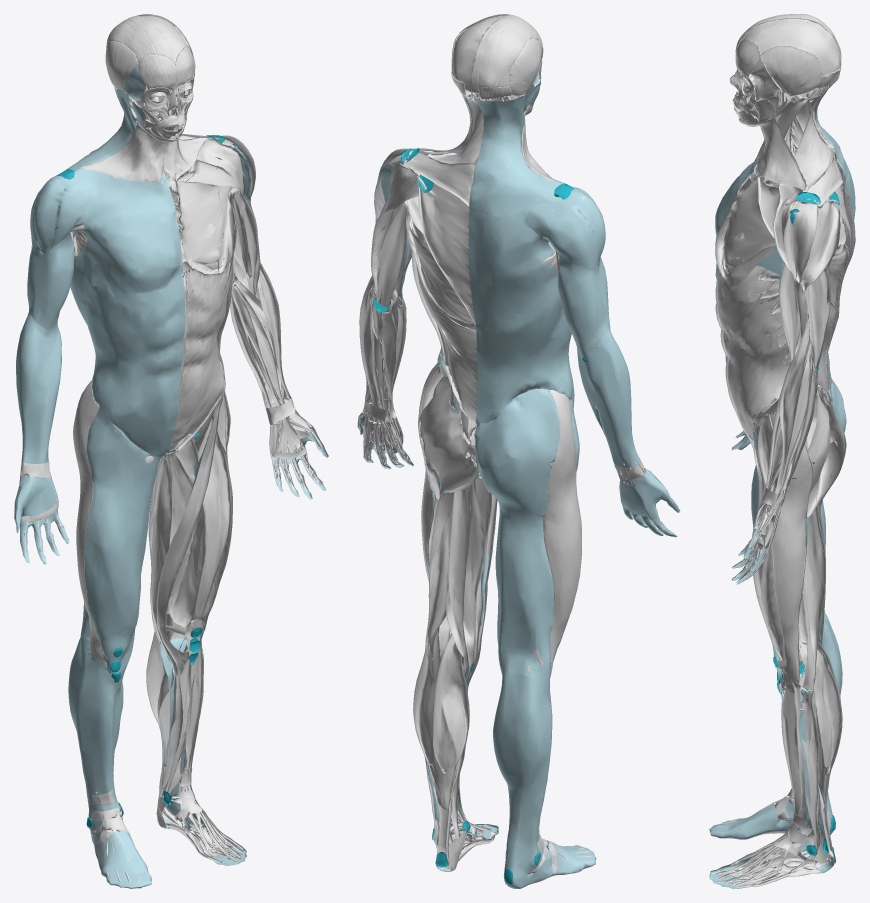
File: body-muscular.glb
The picture shows the model from 3 angles, left to right: view 1: azimuth 30°, elevation 25°; view 2: azimuth 150°, elevation 25°; view 3: azimuth 270°, elevation 25°; orthographic projection. The views are drawn at different scales.
Parts seen in each view (by area): view 1: z00933, z00829, z00765, z01064, z00820, z00717, z01181, z00775, z01117, z01133, z00731, z00893 (+29 smaller); view 2: z00933, z00829, z00765, z01244, z00893, z00952, z00717, z00782, z00775, z00862, z00995, z00731 (+22 smaller); view 3: z00820, z00892, z01181, z00794, z00971, z00862, z00765, z01281, z00940, z01079, z00734, z00704 (+46 smaller).
Part boxes in pixels (x1,y1,x2,y2): z00933: [70, 239, 184, 456]; z00829: [73, 391, 165, 658]; z00765: [68, 637, 151, 888]; z01064: [78, 178, 182, 294]; z00820: [172, 258, 232, 443]; z00717: [16, 315, 61, 463]; z01181: [177, 181, 237, 273]; z00775: [30, 169, 113, 256]; z01117: [185, 414, 231, 664]; z01133: [156, 396, 223, 674]; z00731: [27, 232, 74, 329]; z00893: [73, 380, 106, 667]; z00933: [468, 206, 574, 425]; z00829: [474, 389, 581, 677]; z00765: [493, 665, 596, 888]; z01244: [469, 86, 566, 216]; z00893: [543, 390, 581, 676]; z00952: [406, 211, 477, 422]; z00717: [575, 329, 641, 467]; z00782: [416, 172, 475, 325]; z00775: [522, 173, 605, 273]; z00862: [418, 386, 478, 500]; z00995: [433, 633, 469, 774]; z00731: [556, 251, 610, 347]; z00820: [716, 265, 790, 440]; z00892: [769, 411, 813, 687]; z01181: [715, 180, 775, 277]; z00794: [739, 18, 841, 77]; z00971: [802, 484, 825, 692]; z00862: [807, 392, 844, 518]; z00765: [709, 617, 842, 839]; z01281: [760, 46, 822, 96]; z00940: [800, 642, 842, 774]; z01079: [739, 112, 806, 190]; z00734: [774, 313, 809, 493]; z00704: [784, 200, 818, 282].
Size of the model in its own units: 0.6925 by 1.75 by 0.2772.
